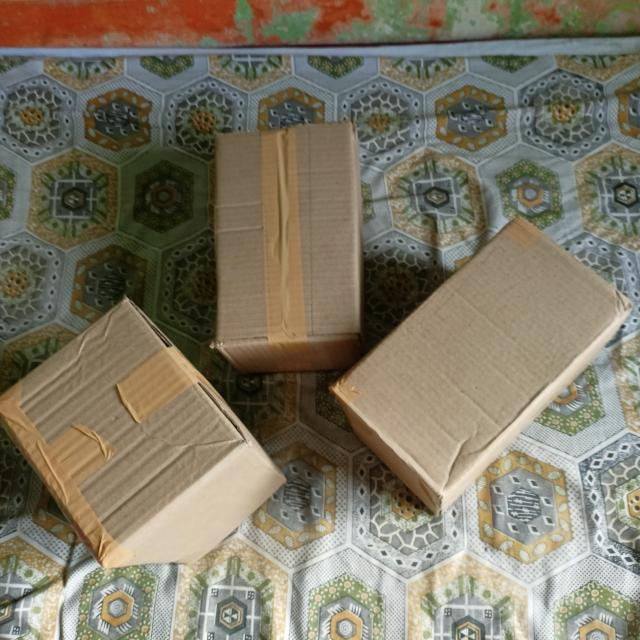box: (329, 219, 629, 499), (1, 303, 244, 558), (216, 120, 362, 345)
